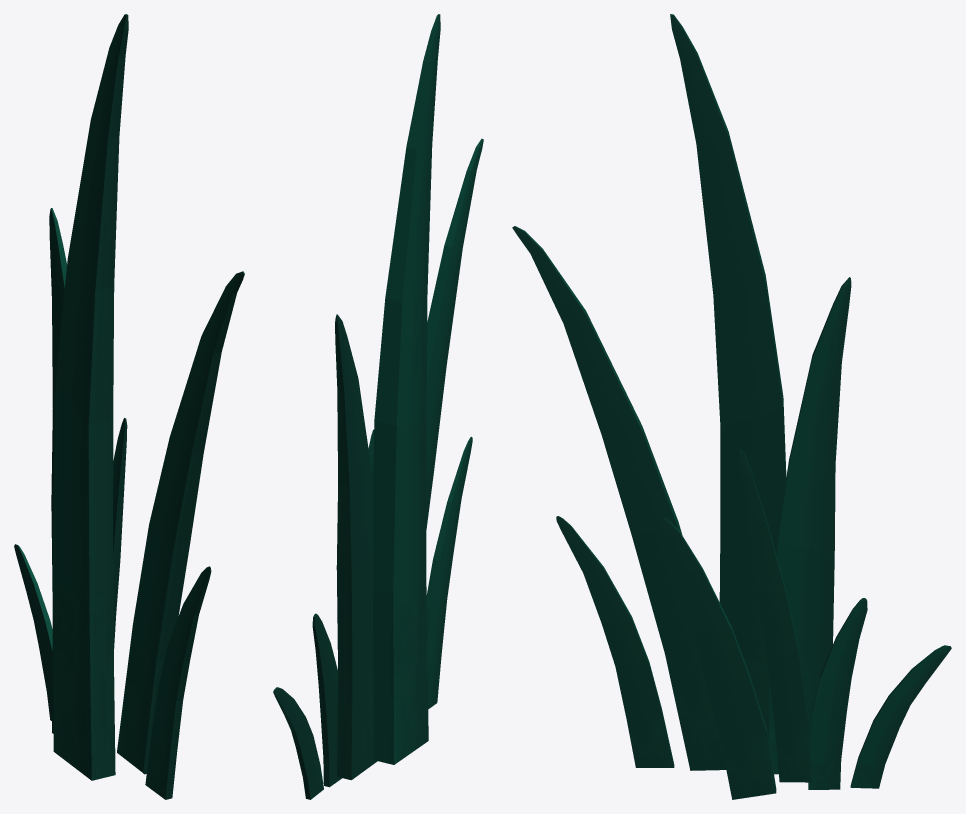
The model's file is MiniArbusto.fbx.
3 views of the same model, side by side, from view 1: azimuth 30°, elevation 25°; view 2: azimuth 150°, elevation 25°; view 3: azimuth 270°, elevation 25° (orthographic). The views are drawn at different scales.
Visible parts, largest first — view 1: MiniArbusto; view 2: MiniArbusto; view 3: MiniArbusto.
Boxes of the visible parts, x1,y1,x2,y2 form: MiniArbusto: (14,14,244,799); MiniArbusto: (273,14,483,799); MiniArbusto: (512,14,951,799).
Bounding box in the file's own units: 33.82 × 368 × 193.
Materials: 1 (1 with a texture image).
